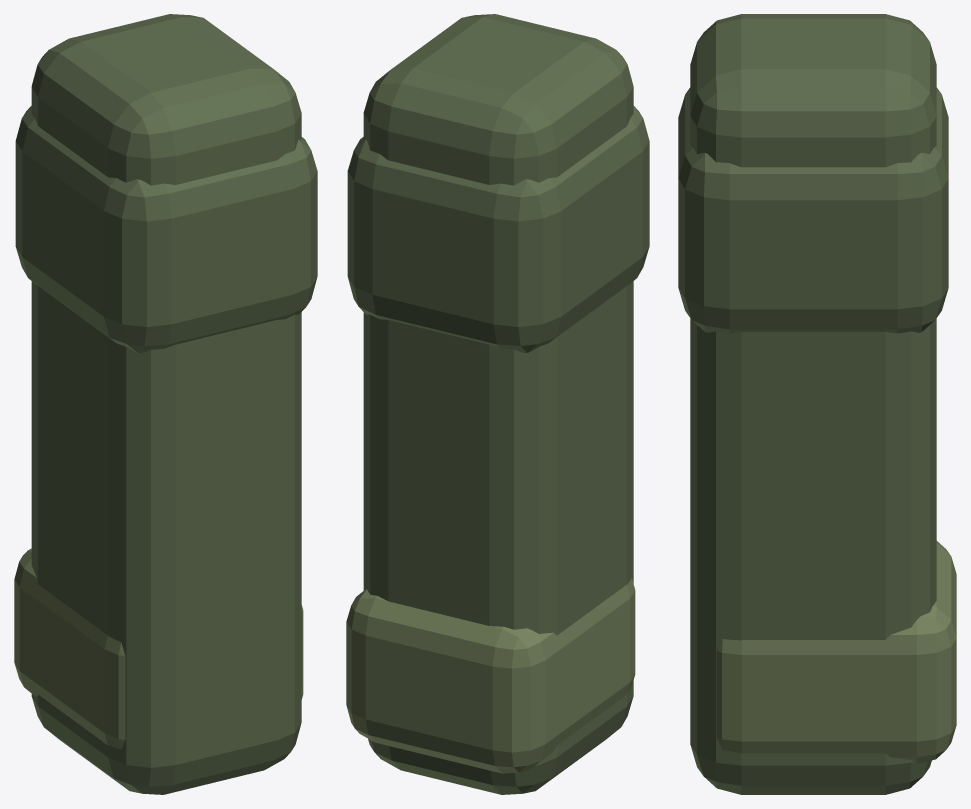
The model's file is soldier_arm.glb.
3 views of the same model, side by side, from view 1: azimuth 30°, elevation 25°; view 2: azimuth 150°, elevation 25°; view 3: azimuth 270°, elevation 25° (orthographic). The views are drawn at different scales.
Parts seen in each view (by area): view 1: soldier_arm; view 2: soldier_arm; view 3: soldier_arm.
Part boxes in pixels (left/top/right/bottom): soldier_arm: left=14, top=14, right=317, bottom=794; soldier_arm: left=346, top=14, right=649, bottom=794; soldier_arm: left=678, top=14, right=956, bottom=794.
Size of the model in its own units: 0.155 by 0.5 by 0.175.
